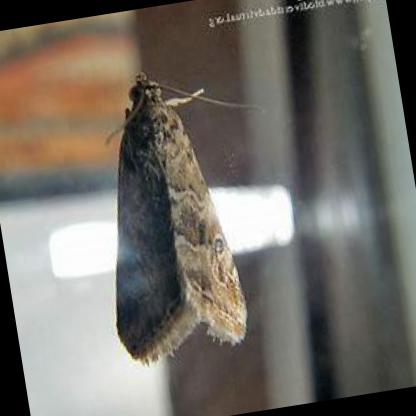Hellula undalis: (105, 64, 269, 373)
